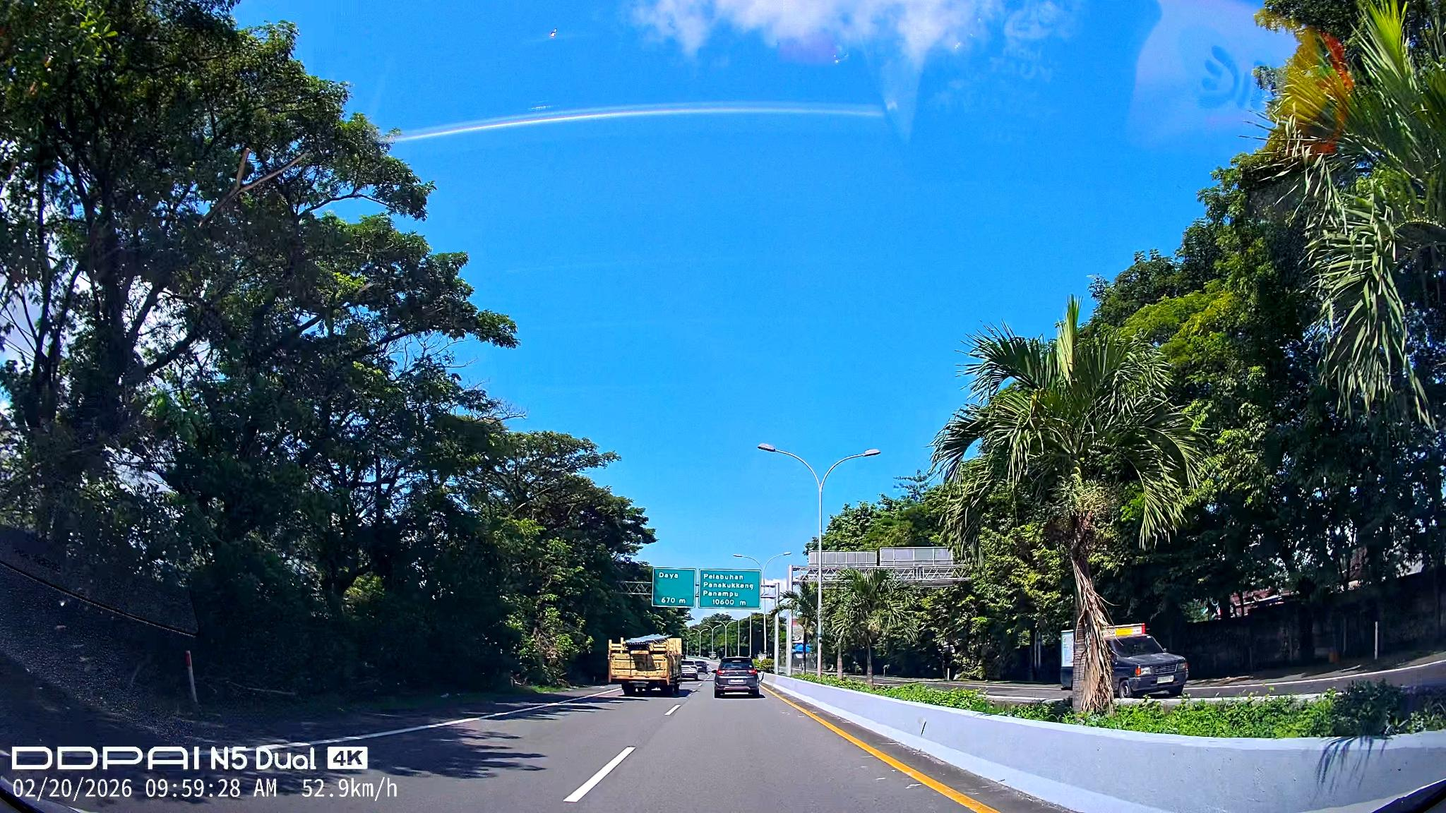rambu_teks: (698, 568, 762, 610), (651, 567, 696, 608)
